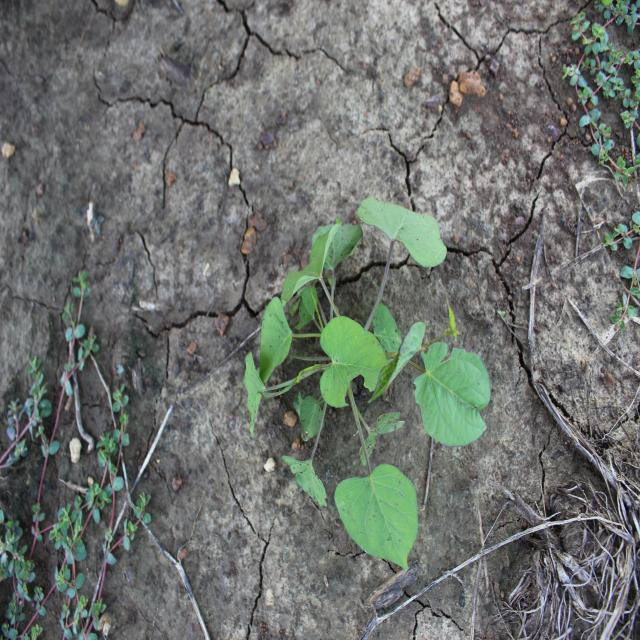MorningGlory: (243, 195, 492, 574)
SpottedSpurge: (0, 269, 154, 635), (554, 2, 639, 334)
